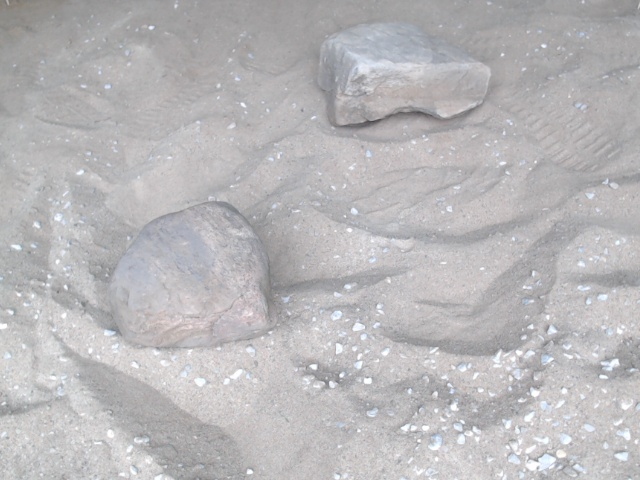rock: (104, 196, 279, 355), (311, 17, 494, 136)
